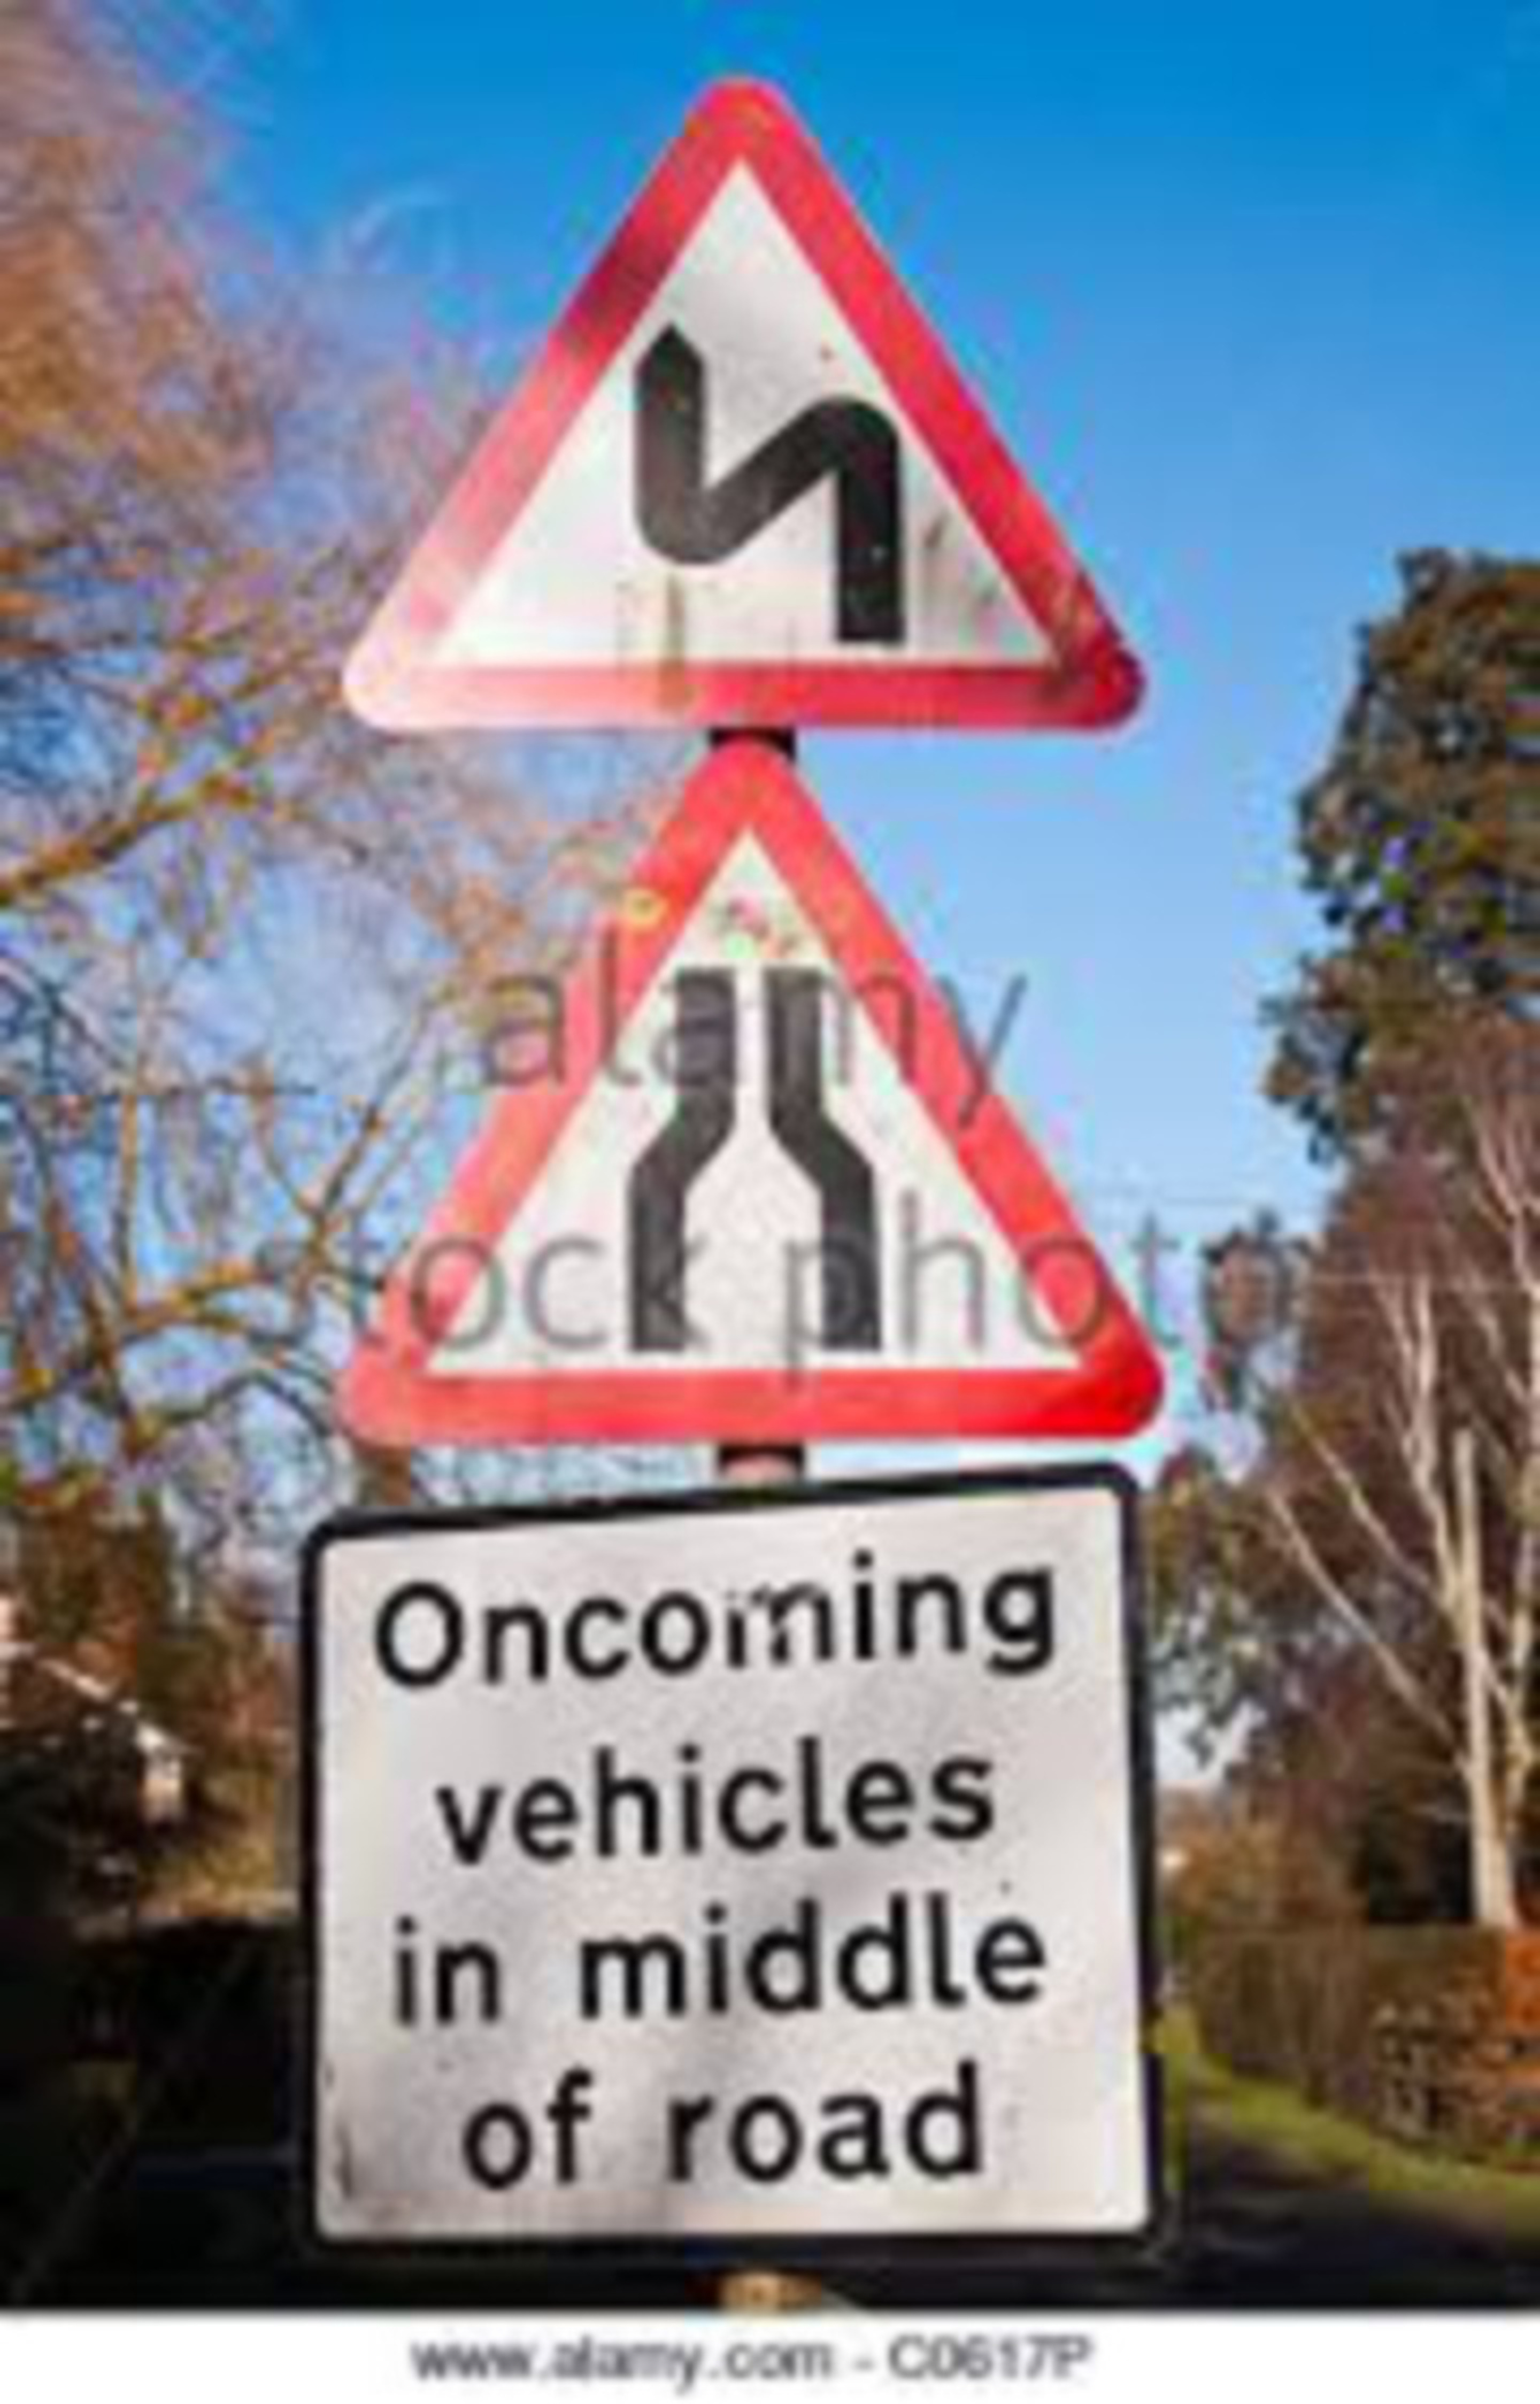Narrow_road: (308, 725, 1190, 1461)
